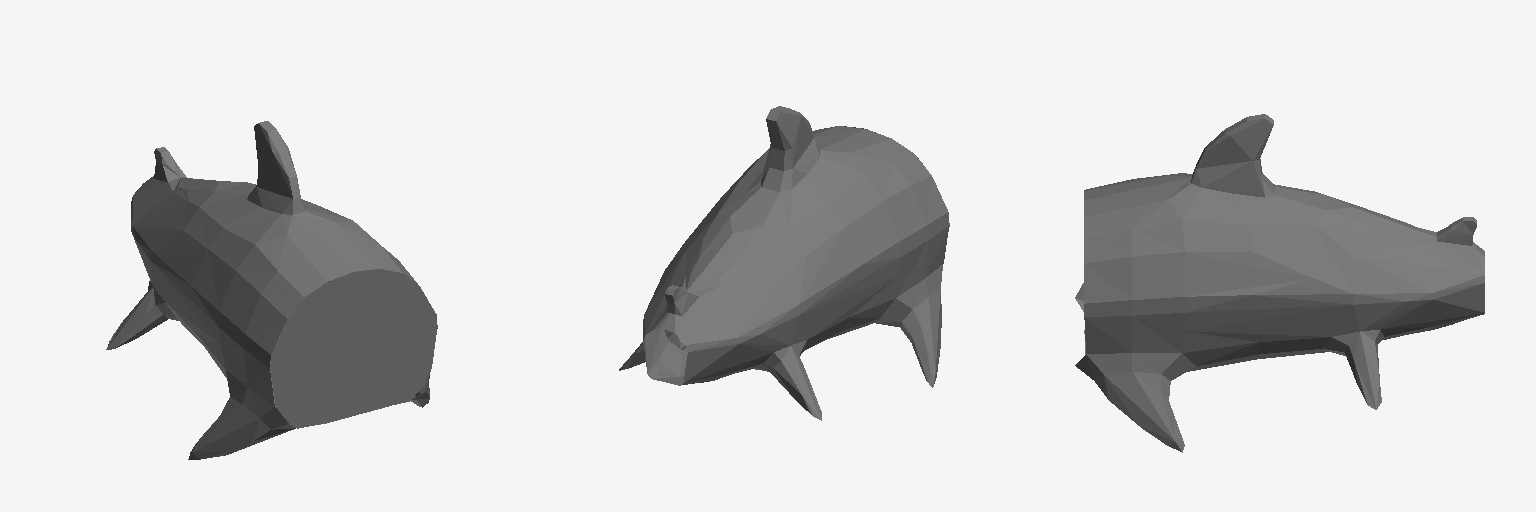
The model's file is shark_body_002.obj.
3 views of the same model, side by side, from view 1: azimuth 30°, elevation 25°; view 2: azimuth 150°, elevation 25°; view 3: azimuth 270°, elevation 25° (orthographic).
Visible parts, largest first — view 1: shark_body_003:transform1 メッシュ, pDisc1 メッシュ; view 2: shark_body_003:transform1 メッシュ; view 3: shark_body_003:transform1 メッシュ.
Boxes of the visible parts, <box> form: shark_body_003:transform1 メッシュ: <box>106,121,437,459</box>; pDisc1 メッシュ: <box>270,269,437,428</box>; shark_body_003:transform1 メッシュ: <box>619,106,949,420</box>; shark_body_003:transform1 メッシュ: <box>1075,114,1484,452</box>.
Size of the model in its own units: 3.71 by 4.26 by 5.66.